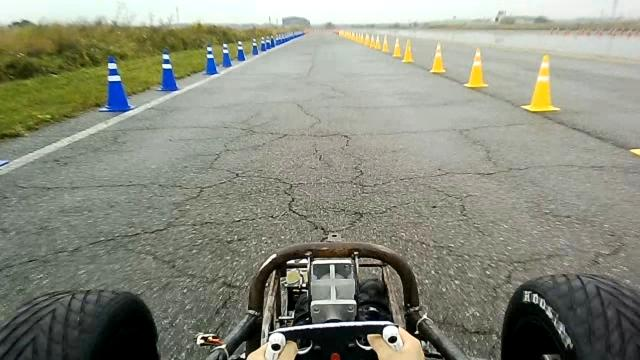blue cone: (98, 55, 135, 112), (156, 48, 179, 92), (204, 43, 219, 75), (222, 43, 232, 68), (236, 40, 246, 61), (250, 38, 258, 55), (260, 36, 267, 52)
yellow cone: (520, 54, 560, 112), (463, 47, 488, 88), (429, 41, 446, 74), (402, 38, 414, 62), (380, 34, 390, 53), (392, 37, 401, 58), (374, 34, 382, 50), (364, 32, 370, 47)
